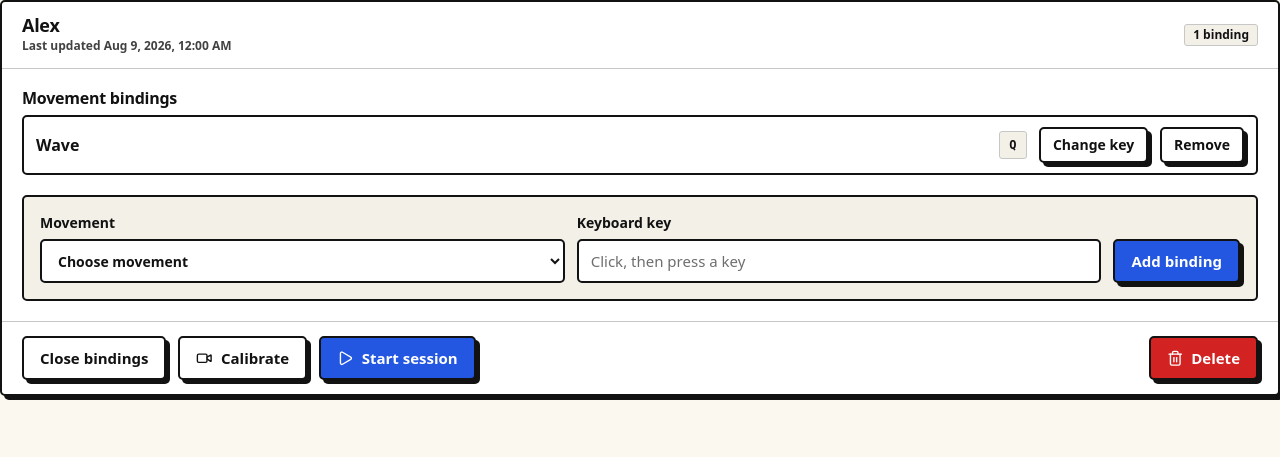
Scenario: PatientCard › surfaces binding change errors from failed actions
Click the button "Remove" at (1202, 145), box [1160,127,1244,163]
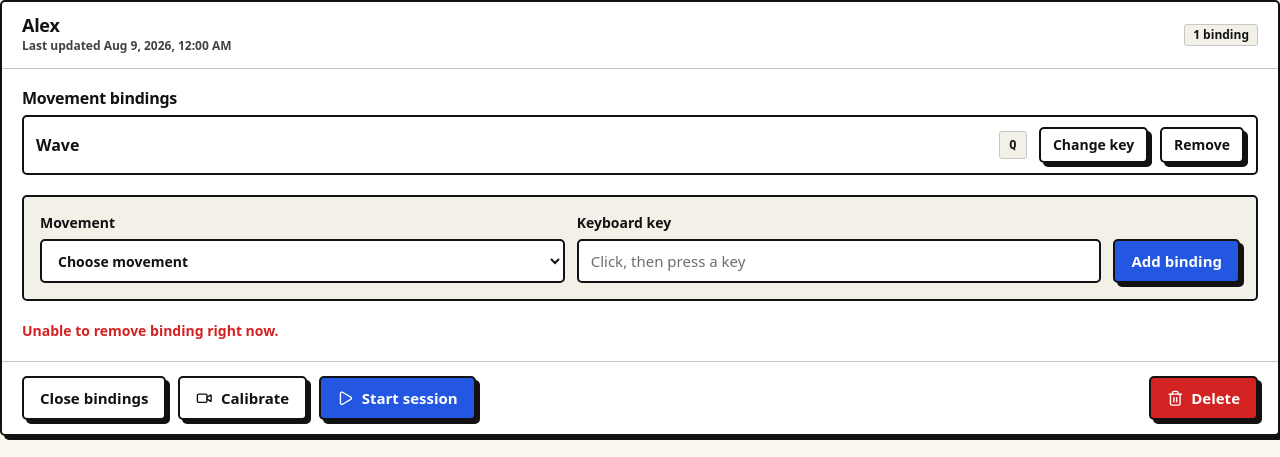
Expected: the text "Unable to remove binding right now." is shown, [22,321,279,340]
